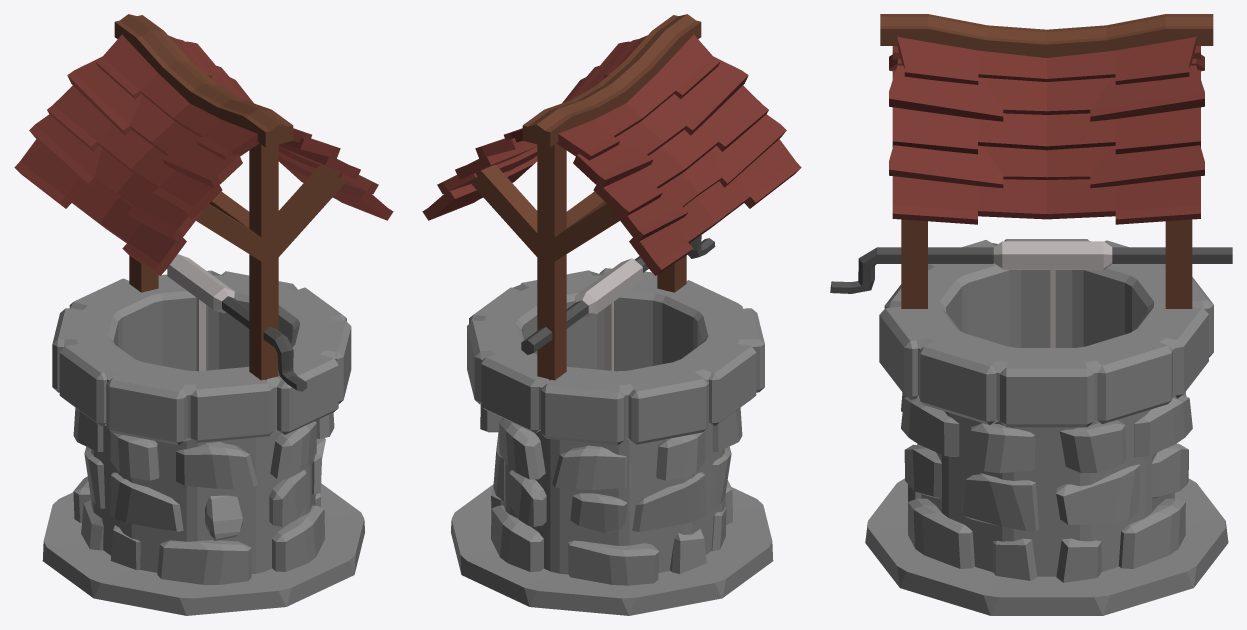
The model's file is Well.glb.
The picture shows the model from 3 angles, left to right: view 1: azimuth 30°, elevation 25°; view 2: azimuth 150°, elevation 25°; view 3: azimuth 270°, elevation 25°; orthographic projection. The views are drawn at different scales.
Visible parts, largest first — view 1: Well_Body; view 2: Well_Body; view 3: Well_Body.
Part boxes in pixels (x1,y1,x2,y2): Well_Body: (14,14,393,615); Well_Body: (422,14,801,615); Well_Body: (830,14,1232,615).
Size of the model in its own units: 1.28 by 2.15 by 1.49.
